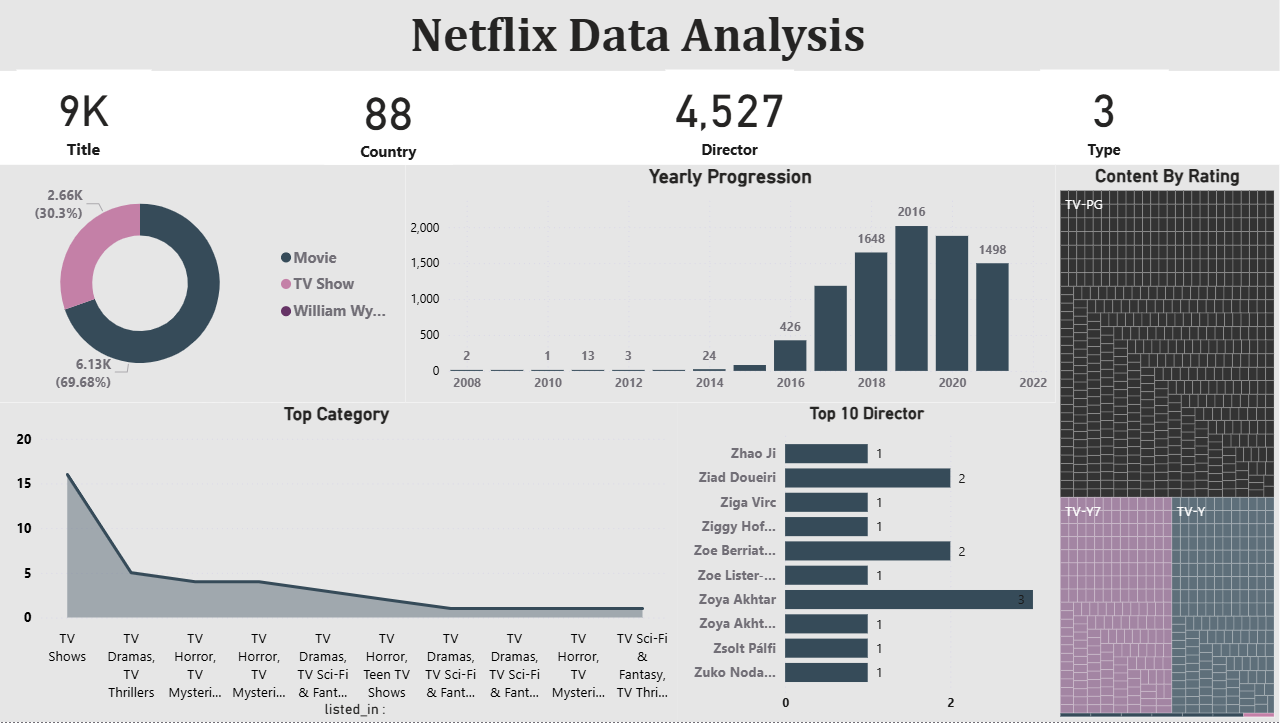

This screenshot's page, from the dashboard's own definition file:
{"tool":"powerbi","page":{"name":"Dashboard1","canvas":[1280,720],"ordinal":1},"visuals":[{"type":"donutChart","fields":{"Category":["netflix1(2).type"],"Y":["netflix1(2).listed_in"]},"box":[0,164.3,407.7,236.9],"z":0},{"type":"columnChart","title":"Yearly Progression","fields":{"Category":["netflix1(2).date_added.Variation.Date Hierarchy.Year"],"Y":["netflix1(2).release_year"]},"box":[408.2,163.9,648,236.7],"z":1000},{"type":"areaChart","title":"Top Category","fields":{"Category":["netflix1(2).listed_in"],"Y":["netflix1(2).title"]},"box":[0,401.3,679,318.5],"z":2000},{"type":"barChart","title":"Top 10 Director","fields":{"Category":["netflix1(2).director"],"Y":["netflix1(2).title"]},"box":[679,401.3,378.4,318.5],"z":3000},{"type":"treemap","title":"Content By Rating","fields":{"Group":["netflix1(2).rating"],"Details":["netflix1(2).title"],"Values":["netflix1(2).title"]},"box":[1056.2,163.9,223.1,555.4],"z":4000},{"type":"textbox","box":[0,0,1279.3,70.7],"z":5000},{"type":"card","fields":{"Values":["netflix1(2).title"]},"box":[20.7,69.5,134.1,93.9],"z":6000},{"type":"card","fields":{"Values":["netflix1(2).country"]},"box":[326.8,72,128,92.7],"z":7000},{"type":"card","fields":{"Values":["netflix1(2).director"]},"box":[667.1,69.5,128,92.7],"z":8000},{"type":"card","fields":{"Values":["netflix1(2).type"]},"box":[1040.2,69.5,128,92.7],"z":9000}]}

Visuals, with their boxes in screenshot pixels (x1, y1, x2, y2), scaled from the page's 1280x720 canvas onto the 1280x723 screenshot:
donutChart - netflix1(2).type x netflix1(2).listed_in: Rect(0, 165, 408, 403)
"Yearly Progression" columnChart: Rect(408, 165, 1056, 402)
"Top Category" areaChart: Rect(0, 403, 679, 722)
"Top 10 Director" barChart: Rect(679, 403, 1057, 722)
"Content By Rating" treemap: Rect(1056, 165, 1279, 722)
textbox: Rect(0, 0, 1279, 71)
card - netflix1(2).title: Rect(21, 70, 155, 164)
card - netflix1(2).country: Rect(327, 72, 455, 165)
card - netflix1(2).director: Rect(667, 70, 795, 163)
card - netflix1(2).type: Rect(1040, 70, 1168, 163)
